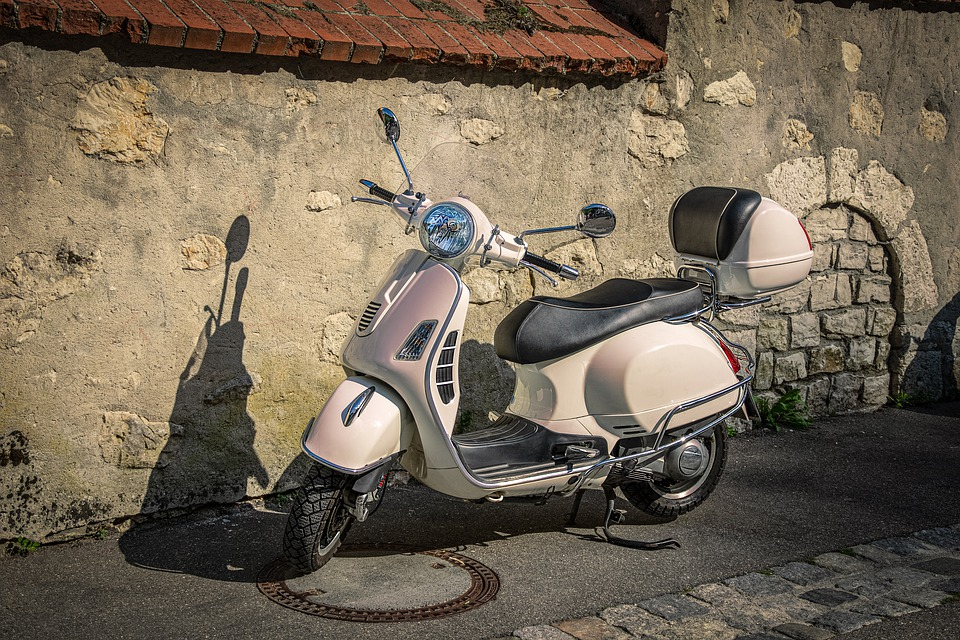motorcycle: (278, 171, 749, 571)
